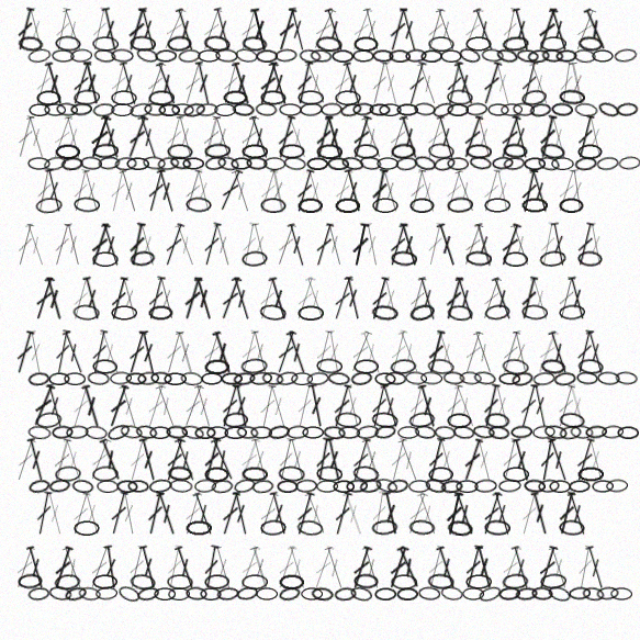chain: (385, 309, 410, 328), (109, 418, 133, 437), (487, 114, 512, 132), (504, 163, 529, 181), (198, 65, 223, 82), (504, 261, 529, 278), (249, 310, 274, 327), (45, 408, 70, 425), (351, 408, 376, 425), (385, 408, 410, 425), (334, 457, 359, 474), (556, 125, 579, 143), (119, 566, 142, 584), (448, 566, 471, 584), (511, 566, 534, 584), (131, 261, 155, 278), (454, 310, 478, 327), (300, 66, 325, 82), (470, 66, 495, 82), (45, 213, 70, 229), (351, 311, 376, 327), (368, 360, 393, 376), (402, 360, 427, 376), (470, 360, 495, 376), (283, 507, 308, 523), (62, 556, 87, 572), (406, 125, 428, 143), (29, 66, 53, 82), (233, 66, 257, 82), (539, 66, 563, 82), (420, 311, 444, 327), (505, 360, 529, 376), (539, 360, 563, 376), (454, 409, 478, 425), (522, 409, 546, 425), (420, 507, 444, 523), (131, 556, 155, 572), (79, 311, 104, 326), (232, 360, 257, 375), (266, 458, 291, 473), (351, 507, 376, 522), (385, 507, 410, 522), (402, 556, 427, 571), (470, 556, 495, 571), (136, 76, 158, 93), (430, 76, 452, 93), (389, 174, 411, 191), (225, 468, 247, 485), (354, 468, 376, 485), (399, 468, 421, 485), (130, 126, 153, 142), (177, 420, 200, 436), (63, 66, 87, 81), (131, 66, 155, 81), (80, 115, 104, 130), (420, 115, 444, 130), (522, 115, 546, 130), (97, 164, 121, 179), (199, 164, 223, 179), (403, 164, 427, 179), (80, 213, 104, 228), (182, 213, 206, 228), (420, 213, 444, 228), (233, 262, 257, 277), (369, 262, 393, 277), (437, 262, 461, 277), (488, 311, 512, 326), (522, 311, 546, 326), (301, 360, 325, 375), (318, 409, 342, 424), (63, 458, 87, 473), (97, 458, 121, 473), (165, 458, 189, 473), (301, 458, 325, 473), (250, 507, 274, 522), (454, 507, 478, 522), (522, 507, 546, 522), (505, 556, 529, 571), (464, 77, 486, 93), (179, 126, 201, 142), (322, 126, 344, 142), (52, 175, 74, 191), (210, 175, 232, 191), (323, 175, 345, 191), (407, 175, 429, 191), (502, 175, 524, 191), (478, 371, 500, 387), (38, 469, 60, 485), (71, 567, 93, 583), (137, 567, 159, 583), (266, 567, 288, 583), (331, 567, 353, 583), (165, 66, 188, 81), (369, 164, 392, 179), (471, 164, 494, 179), (539, 262, 562, 277), (216, 409, 239, 424), (29, 556, 52, 571), (335, 556, 358, 571), (97, 67, 121, 81), (403, 67, 427, 81), (437, 67, 461, 81), (505, 67, 529, 81), (114, 116, 138, 130), (148, 116, 172, 130), (250, 116, 274, 130), (284, 116, 308, 130), (318, 116, 342, 130), (165, 165, 189, 179), (233, 165, 257, 179), (267, 165, 291, 179), (301, 165, 325, 179), (437, 165, 461, 179), (250, 214, 274, 228), (352, 214, 376, 228), (454, 214, 478, 228), (488, 214, 512, 228), (97, 263, 121, 277), (114, 312, 138, 326), (284, 312, 308, 326), (233, 459, 257, 473), (471, 459, 495, 473), (539, 459, 563, 473), (80, 508, 104, 522), (182, 508, 206, 522), (165, 557, 189, 571), (233, 557, 257, 571), (369, 557, 393, 571), (437, 557, 461, 571), (38, 77, 60, 92), (572, 77, 594, 92), (256, 420, 278, 435), (337, 420, 359, 435), (353, 420, 375, 435), (508, 420, 530, 435), (148, 469, 170, 484), (57, 567, 79, 582), (335, 67, 358, 81), (46, 116, 69, 130), (216, 116, 239, 130), (63, 165, 86, 179), (335, 165, 358, 179), (539, 165, 562, 179), (284, 214, 307, 228), (318, 214, 341, 228), (386, 214, 409, 228), (522, 214, 545, 228), (471, 263, 494, 277), (148, 312, 171, 326), (97, 361, 120, 375), (199, 361, 222, 375), (335, 361, 358, 375), (420, 410, 443, 424), (199, 459, 222, 473), (403, 459, 426, 473), (97, 557, 120, 571), (199, 557, 222, 571), (267, 557, 290, 571), (227, 77, 248, 92), (167, 175, 188, 190), (199, 175, 220, 190), (340, 175, 361, 190), (440, 175, 461, 190), (264, 371, 285, 386), (332, 371, 353, 386), (444, 371, 465, 386), (122, 420, 143, 435), (136, 420, 157, 435), (390, 420, 411, 435), (443, 420, 464, 435), (57, 469, 78, 484), (340, 469, 361, 484), (365, 469, 386, 484), (228, 567, 249, 582), (414, 567, 435, 582), (536, 127, 558, 141), (38, 421, 60, 435), (98, 78, 119, 92), (175, 78, 196, 92), (285, 78, 306, 92), (295, 78, 316, 92), (483, 78, 504, 92), (493, 78, 514, 92), (535, 78, 556, 92), (97, 127, 118, 141), (191, 127, 212, 141), (495, 127, 516, 141), (68, 176, 89, 190), (117, 176, 138, 190), (156, 176, 177, 190), (271, 176, 292, 190), (373, 176, 394, 190), (471, 176, 492, 190), (536, 176, 557, 190), (556, 176, 577, 190), (38, 372, 59, 386), (177, 372, 198, 386), (225, 372, 246, 386), (251, 372, 272, 386), (292, 372, 313, 386), (311, 372, 332, 386), (498, 372, 519, 386), (517, 372, 538, 386), (90, 421, 111, 435), (228, 421, 249, 435), (307, 421, 328, 435), (408, 421, 429, 435), (425, 421, 446, 435), (457, 421, 478, 435), (522, 421, 543, 435), (78, 470, 99, 484), (205, 470, 226, 484), (242, 470, 263, 484), (414, 470, 435, 484), (38, 568, 59, 582), (84, 568, 105, 582), (210, 568, 231, 582), (296, 568, 317, 582), (317, 568, 338, 582), (482, 568, 503, 582), (543, 568, 564, 582), (532, 421, 554, 434), (167, 470, 189, 483), (466, 568, 488, 581), (114, 78, 135, 91), (209, 78, 230, 91), (263, 78, 284, 91), (451, 78, 472, 91), (506, 78, 527, 91), (224, 127, 245, 140), (245, 127, 266, 140), (286, 127, 307, 140), (574, 127, 595, 140), (102, 176, 123, 189), (143, 176, 164, 189), (576, 176, 597, 189), (92, 372, 113, 385), (240, 372, 261, 385), (363, 372, 384, 385), (416, 372, 437, 385), (431, 372, 452, 385), (557, 372, 578, 385), (573, 372, 594, 385), (73, 421, 94, 434), (498, 421, 519, 434), (445, 470, 466, 483), (467, 470, 488, 483), (556, 568, 577, 581), (77, 78, 97, 91), (382, 78, 402, 91), (64, 127, 84, 140), (77, 127, 97, 140), (144, 127, 164, 140), (305, 127, 325, 140), (334, 127, 354, 140), (390, 127, 410, 140), (437, 127, 457, 140), (480, 127, 500, 140), (515, 127, 535, 140), (86, 176, 106, 189), (237, 176, 257, 189), (461, 176, 481, 189), (113, 372, 133, 385), (138, 372, 158, 385), (150, 372, 170, 385), (382, 372, 402, 385), (396, 372, 416, 385), (538, 372, 558, 385), (60, 421, 80, 434), (164, 421, 184, 434), (274, 421, 294, 434), (478, 421, 498, 434), (546, 421, 566, 434), (561, 421, 581, 434), (190, 470, 210, 483), (282, 470, 302, 483), (328, 470, 348, 483), (490, 470, 510, 483), (503, 470, 523, 483), (565, 470, 585, 483), (100, 568, 120, 581), (182, 568, 202, 581), (394, 568, 414, 581), (497, 568, 517, 581), (531, 568, 551, 581), (60, 79, 81, 91), (193, 79, 214, 91), (114, 128, 135, 140), (169, 128, 190, 140), (267, 128, 288, 140), (358, 128, 379, 140), (38, 177, 59, 189), (128, 177, 149, 189), (515, 177, 536, 189), (162, 373, 183, 385), (217, 422, 238, 434), (428, 471, 449, 483), (154, 79, 174, 91), (246, 79, 266, 91), (315, 79, 335, 91), (334, 79, 354, 91), (352, 79, 372, 91), (367, 79, 387, 91), (396, 79, 416, 91), (414, 79, 434, 91), (519, 79, 539, 91), (552, 79, 572, 91), (39, 128, 59, 140), (53, 128, 73, 140), (157, 128, 177, 140), (208, 128, 228, 140), (349, 128, 369, 140), (374, 128, 394, 140), (420, 128, 440, 140), (457, 128, 477, 140), (469, 128, 489, 140), (179, 177, 199, 189), (223, 177, 243, 189), (253, 177, 273, 189), (292, 177, 312, 189), (311, 177, 331, 189), (356, 177, 376, 189), (420, 177, 440, 189), (490, 177, 510, 189), (57, 373, 77, 385), (71, 373, 91, 385), (127, 373, 147, 385), (196, 373, 216, 385), (214, 373, 234, 385), (278, 373, 298, 385), (354, 373, 374, 385), (467, 373, 487, 385), (149, 422, 169, 434), (190, 422, 210, 434), (201, 422, 221, 434), (241, 422, 261, 434), (288, 422, 308, 434), (321, 422, 341, 434), (375, 422, 395, 434), (575, 422, 595, 434), (101, 471, 121, 483), (119, 471, 139, 483), (129, 471, 149, 483), (265, 471, 285, 483), (301, 471, 321, 483), (316, 471, 336, 483), (385, 471, 405, 483), (513, 471, 533, 483), (531, 471, 551, 483), (552, 471, 572, 483), (153, 569, 173, 581), (166, 569, 186, 581), (195, 569, 215, 581), (246, 569, 266, 581), (287, 569, 307, 581), (354, 569, 374, 581), (374, 569, 394, 581), (434, 569, 454, 581), (569, 569, 589, 581)
double: (294, 40, 322, 81), (209, 187, 237, 228), (202, 432, 230, 473), (532, 40, 559, 82), (498, 334, 525, 376), (158, 40, 185, 81), (542, 40, 569, 81), (328, 334, 355, 375), (39, 383, 66, 424), (372, 530, 399, 571), (329, 40, 355, 82), (441, 40, 467, 82), (152, 89, 178, 131), (91, 138, 117, 180), (125, 138, 151, 180), (271, 138, 297, 180), (339, 138, 365, 180), (424, 187, 450, 229), (169, 236, 195, 278), (210, 285, 236, 327), (67, 334, 93, 376), (176, 383, 202, 425), (424, 383, 450, 425), (169, 432, 195, 474), (227, 432, 253, 474), (322, 481, 348, 523), (380, 481, 406, 523), (227, 530, 253, 572), (465, 530, 491, 572), (288, 89, 314, 130), (373, 334, 399, 375), (91, 432, 117, 473), (101, 432, 127, 473), (288, 481, 314, 522), (67, 40, 92, 82), (193, 40, 218, 82), (407, 40, 432, 82), (431, 40, 456, 82), (499, 40, 524, 82), (142, 89, 167, 131), (390, 89, 415, 131), (424, 89, 449, 131), (492, 89, 517, 131), (57, 138, 82, 180), (237, 138, 262, 180), (363, 138, 388, 180), (431, 138, 456, 180), (465, 138, 490, 180), (33, 236, 58, 278), (159, 236, 184, 278), (261, 236, 286, 278), (431, 236, 456, 278), (465, 236, 490, 278), (475, 236, 500, 278), (288, 285, 313, 327), (448, 285, 473, 327), (458, 285, 483, 327), (101, 334, 126, 376), (261, 334, 286, 376), (271, 334, 296, 376), (339, 334, 364, 376), (441, 334, 466, 376), (108, 383, 133, 425), (152, 383, 177, 425), (373, 432, 398, 474), (431, 432, 456, 474), (186, 481, 211, 523), (390, 481, 415, 523), (424, 481, 449, 523), (23, 530, 48, 572), (67, 530, 92, 572), (91, 530, 116, 572), (169, 530, 194, 572), (295, 530, 320, 572), (363, 530, 388, 572), (499, 530, 524, 572), (170, 40, 194, 82), (262, 40, 286, 82), (306, 40, 330, 82), (510, 40, 534, 82), (75, 89, 99, 131), (221, 89, 245, 131), (245, 89, 269, 131), (255, 89, 279, 131), (449, 89, 473, 131), (34, 138, 58, 180), (102, 138, 126, 180), (136, 138, 160, 180), (204, 138, 228, 180), (228, 138, 252, 180), (330, 138, 354, 180), (374, 138, 398, 180), (221, 187, 245, 229), (245, 187, 269, 229), (313, 187, 337, 229), (517, 187, 541, 229), (92, 236, 116, 278), (102, 236, 126, 278), (296, 236, 320, 278), (408, 236, 432, 278), (442, 236, 466, 278), (41, 285, 65, 327), (221, 285, 245, 327), (279, 285, 303, 327), (313, 285, 337, 327), (425, 285, 449, 327), (493, 285, 517, 327), (170, 334, 194, 376), (194, 334, 218, 376), (204, 334, 228, 376), (408, 334, 432, 376), (432, 334, 456, 376), (466, 334, 490, 376), (510, 334, 534, 376), (143, 383, 167, 425), (527, 383, 551, 425), (24, 432, 48, 474), (68, 432, 92, 474), (160, 432, 184, 474), (340, 432, 364, 474), (510, 432, 534, 474), (153, 481, 177, 523), (211, 481, 235, 523), (245, 481, 269, 523), (449, 481, 473, 523), (527, 481, 551, 523), (58, 530, 82, 572), (204, 530, 228, 572), (238, 530, 262, 572), (262, 530, 286, 572), (272, 530, 296, 572), (306, 530, 330, 572), (330, 530, 354, 572), (408, 530, 432, 572), (510, 530, 534, 572), (126, 40, 149, 82), (228, 40, 251, 82), (238, 40, 261, 82), (364, 40, 387, 82), (374, 40, 397, 82), (398, 40, 421, 82), (41, 89, 64, 131), (51, 89, 74, 131), (119, 89, 142, 131), (177, 89, 200, 131), (313, 89, 336, 131), (323, 89, 346, 131), (381, 89, 404, 131), (160, 138, 183, 180), (194, 138, 217, 180), (262, 138, 285, 180), (306, 138, 329, 180), (398, 138, 421, 180), (408, 138, 431, 180), (85, 187, 108, 229), (119, 187, 142, 229), (153, 187, 176, 229), (177, 187, 200, 229), (279, 187, 302, 229), (289, 187, 312, 229), (357, 187, 380, 229), (391, 187, 414, 229), (415, 187, 438, 229), (449, 187, 472, 229), (493, 187, 516, 229), (58, 236, 81, 278), (136, 236, 159, 278), (272, 236, 295, 278), (364, 236, 387, 278), (374, 236, 397, 278), (51, 285, 74, 327), (75, 285, 98, 327), (177, 285, 200, 327), (187, 285, 210, 327), (245, 285, 268, 327), (255, 285, 278, 327), (347, 285, 370, 327), (391, 285, 414, 327), (415, 285, 438, 327), (24, 334, 47, 376), (126, 334, 149, 376), (160, 334, 183, 376), (544, 334, 567, 376), (75, 383, 98, 425), (85, 383, 108, 425), (119, 383, 142, 425), (187, 383, 210, 425), (211, 383, 234, 425), (255, 383, 278, 425), (313, 383, 336, 425), (357, 383, 380, 425), (391, 383, 414, 425), (483, 383, 506, 425), (517, 383, 540, 425), (58, 432, 81, 474), (330, 432, 353, 474), (534, 432, 557, 474), (75, 481, 98, 523), (177, 481, 200, 523), (279, 481, 302, 523), (459, 481, 482, 523), (34, 530, 57, 572), (340, 530, 363, 572), (476, 530, 499, 572), (544, 530, 567, 572), (477, 40, 499, 82), (416, 89, 438, 131), (528, 89, 550, 131), (69, 138, 91, 180), (297, 138, 319, 180), (511, 138, 533, 180), (484, 187, 506, 229), (25, 236, 47, 278), (205, 236, 227, 278), (110, 285, 132, 327), (382, 285, 404, 327), (137, 334, 159, 376), (127, 432, 149, 474), (477, 432, 499, 474), (86, 480, 108, 522), (314, 481, 336, 523), (416, 481, 438, 523), (484, 481, 506, 523), (25, 40, 47, 81), (35, 40, 57, 81), (137, 40, 159, 81), (205, 40, 227, 81), (273, 40, 295, 81), (341, 40, 363, 81), (110, 89, 132, 130), (212, 89, 234, 130), (358, 89, 380, 130), (460, 89, 482, 130), (484, 89, 506, 130), (25, 138, 47, 179), (171, 138, 193, 179), (443, 138, 465, 179), (501, 138, 523, 179), (535, 138, 557, 179), (144, 187, 166, 228), (324, 187, 346, 228), (382, 187, 404, 228), (69, 236, 91, 277), (195, 236, 217, 277), (239, 236, 261, 277), (307, 236, 329, 277), (535, 236, 557, 277), (86, 285, 108, 326), (120, 285, 142, 326), (144, 285, 166, 326), (154, 285, 176, 326), (358, 285, 380, 326), (484, 285, 506, 326), (518, 285, 540, 326), (528, 285, 550, 326), (229, 334, 251, 375), (239, 334, 261, 375), (297, 334, 319, 375), (365, 334, 387, 375), (399, 334, 421, 375), (52, 383, 74, 424), (35, 432, 57, 473), (137, 432, 159, 473), (195, 432, 217, 473), (239, 432, 261, 473), (273, 432, 295, 473), (365, 432, 387, 473), (399, 432, 421, 473), (409, 432, 431, 473), (443, 432, 465, 473), (545, 432, 567, 473), (52, 481, 74, 522), (110, 481, 132, 522), (256, 481, 278, 522), (494, 481, 516, 522), (518, 481, 540, 522), (137, 530, 159, 571), (399, 530, 421, 571), (433, 530, 455, 571), (443, 530, 465, 571), (331, 236, 352, 278), (246, 383, 267, 425), (93, 40, 114, 81), (103, 40, 124, 81), (467, 40, 488, 81), (86, 89, 107, 130), (188, 89, 209, 130), (280, 89, 301, 130), (348, 89, 369, 130), (477, 138, 498, 179), (545, 138, 566, 179), (52, 187, 73, 228), (76, 187, 97, 228), (110, 187, 131, 228), (188, 187, 209, 228), (256, 187, 277, 228), (399, 236, 420, 277), (324, 285, 345, 326), (93, 334, 114, 375), (477, 334, 498, 375), (535, 334, 556, 375), (280, 383, 301, 424), (324, 383, 345, 424), (348, 383, 369, 424), (382, 383, 403, 424), (416, 383, 437, 424), (450, 383, 471, 424), (460, 383, 481, 424), (263, 432, 284, 473), (307, 432, 328, 473), (467, 432, 488, 473), (144, 481, 165, 522), (222, 481, 243, 522), (127, 530, 148, 571), (60, 40, 80, 81), (43, 187, 63, 228), (349, 187, 369, 228), (461, 187, 481, 228), (128, 236, 148, 277), (230, 236, 250, 277), (342, 236, 362, 277), (502, 236, 522, 277), (512, 236, 532, 277), (546, 236, 566, 277), (60, 334, 80, 375), (223, 383, 243, 424), (291, 383, 311, 424), (495, 383, 515, 424), (43, 481, 63, 522), (359, 481, 379, 522), (162, 530, 182, 571), (536, 530, 556, 571), (36, 334, 55, 375), (308, 334, 327, 375), (298, 432, 317, 473), (502, 432, 521, 473), (121, 481, 140, 522), (349, 481, 368, 522), (196, 530, 215, 571), (520, 89, 538, 130), (530, 187, 548, 228), (105, 530, 123, 571)
noise: (615, 225, 640, 237)
